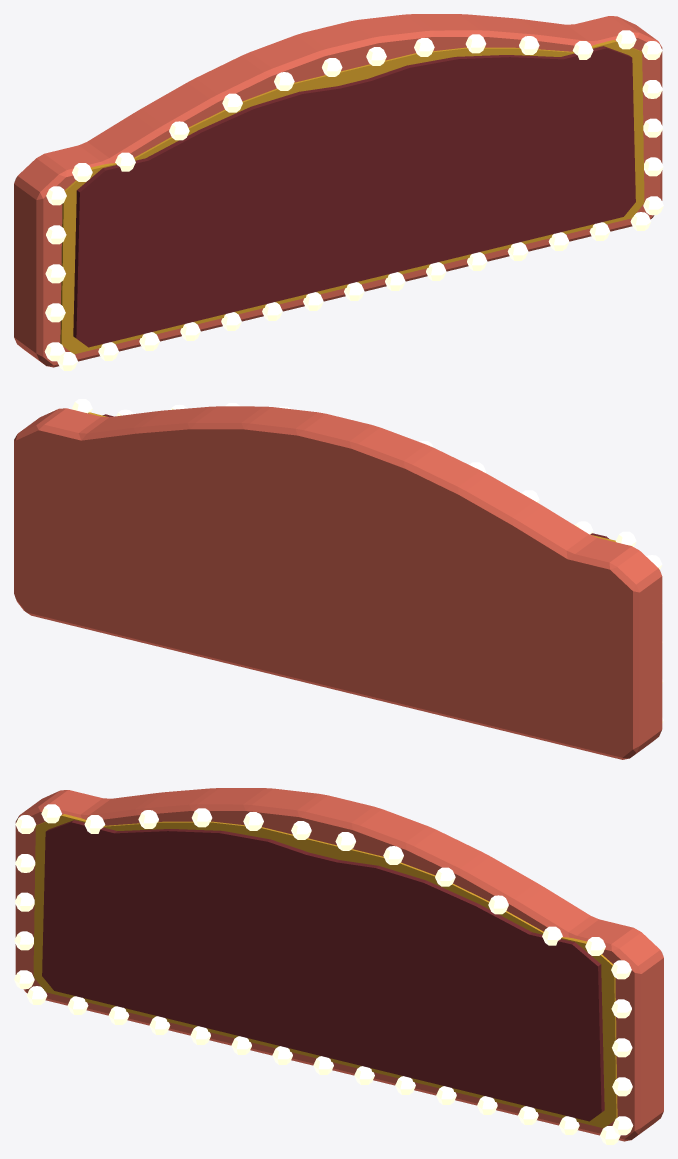
File: cinema_marquee.glb
The picture shows the model from 3 angles, top to bottom: view 1: azimuth 30°, elevation 25°; view 2: azimuth 150°, elevation 25°; view 3: azimuth 330°, elevation 25°; orthographic projection.
Visible parts, largest first — view 1: cinema_marquee; view 2: cinema_marquee; view 3: cinema_marquee.
Boxes of the visible parts, bbox=[...] form: cinema_marquee: bbox=[14, 14, 663, 370]; cinema_marquee: bbox=[14, 399, 663, 759]; cinema_marquee: bbox=[14, 788, 663, 1144].
Size of the model in its own units: 2.9 by 1.12 by 0.282.
